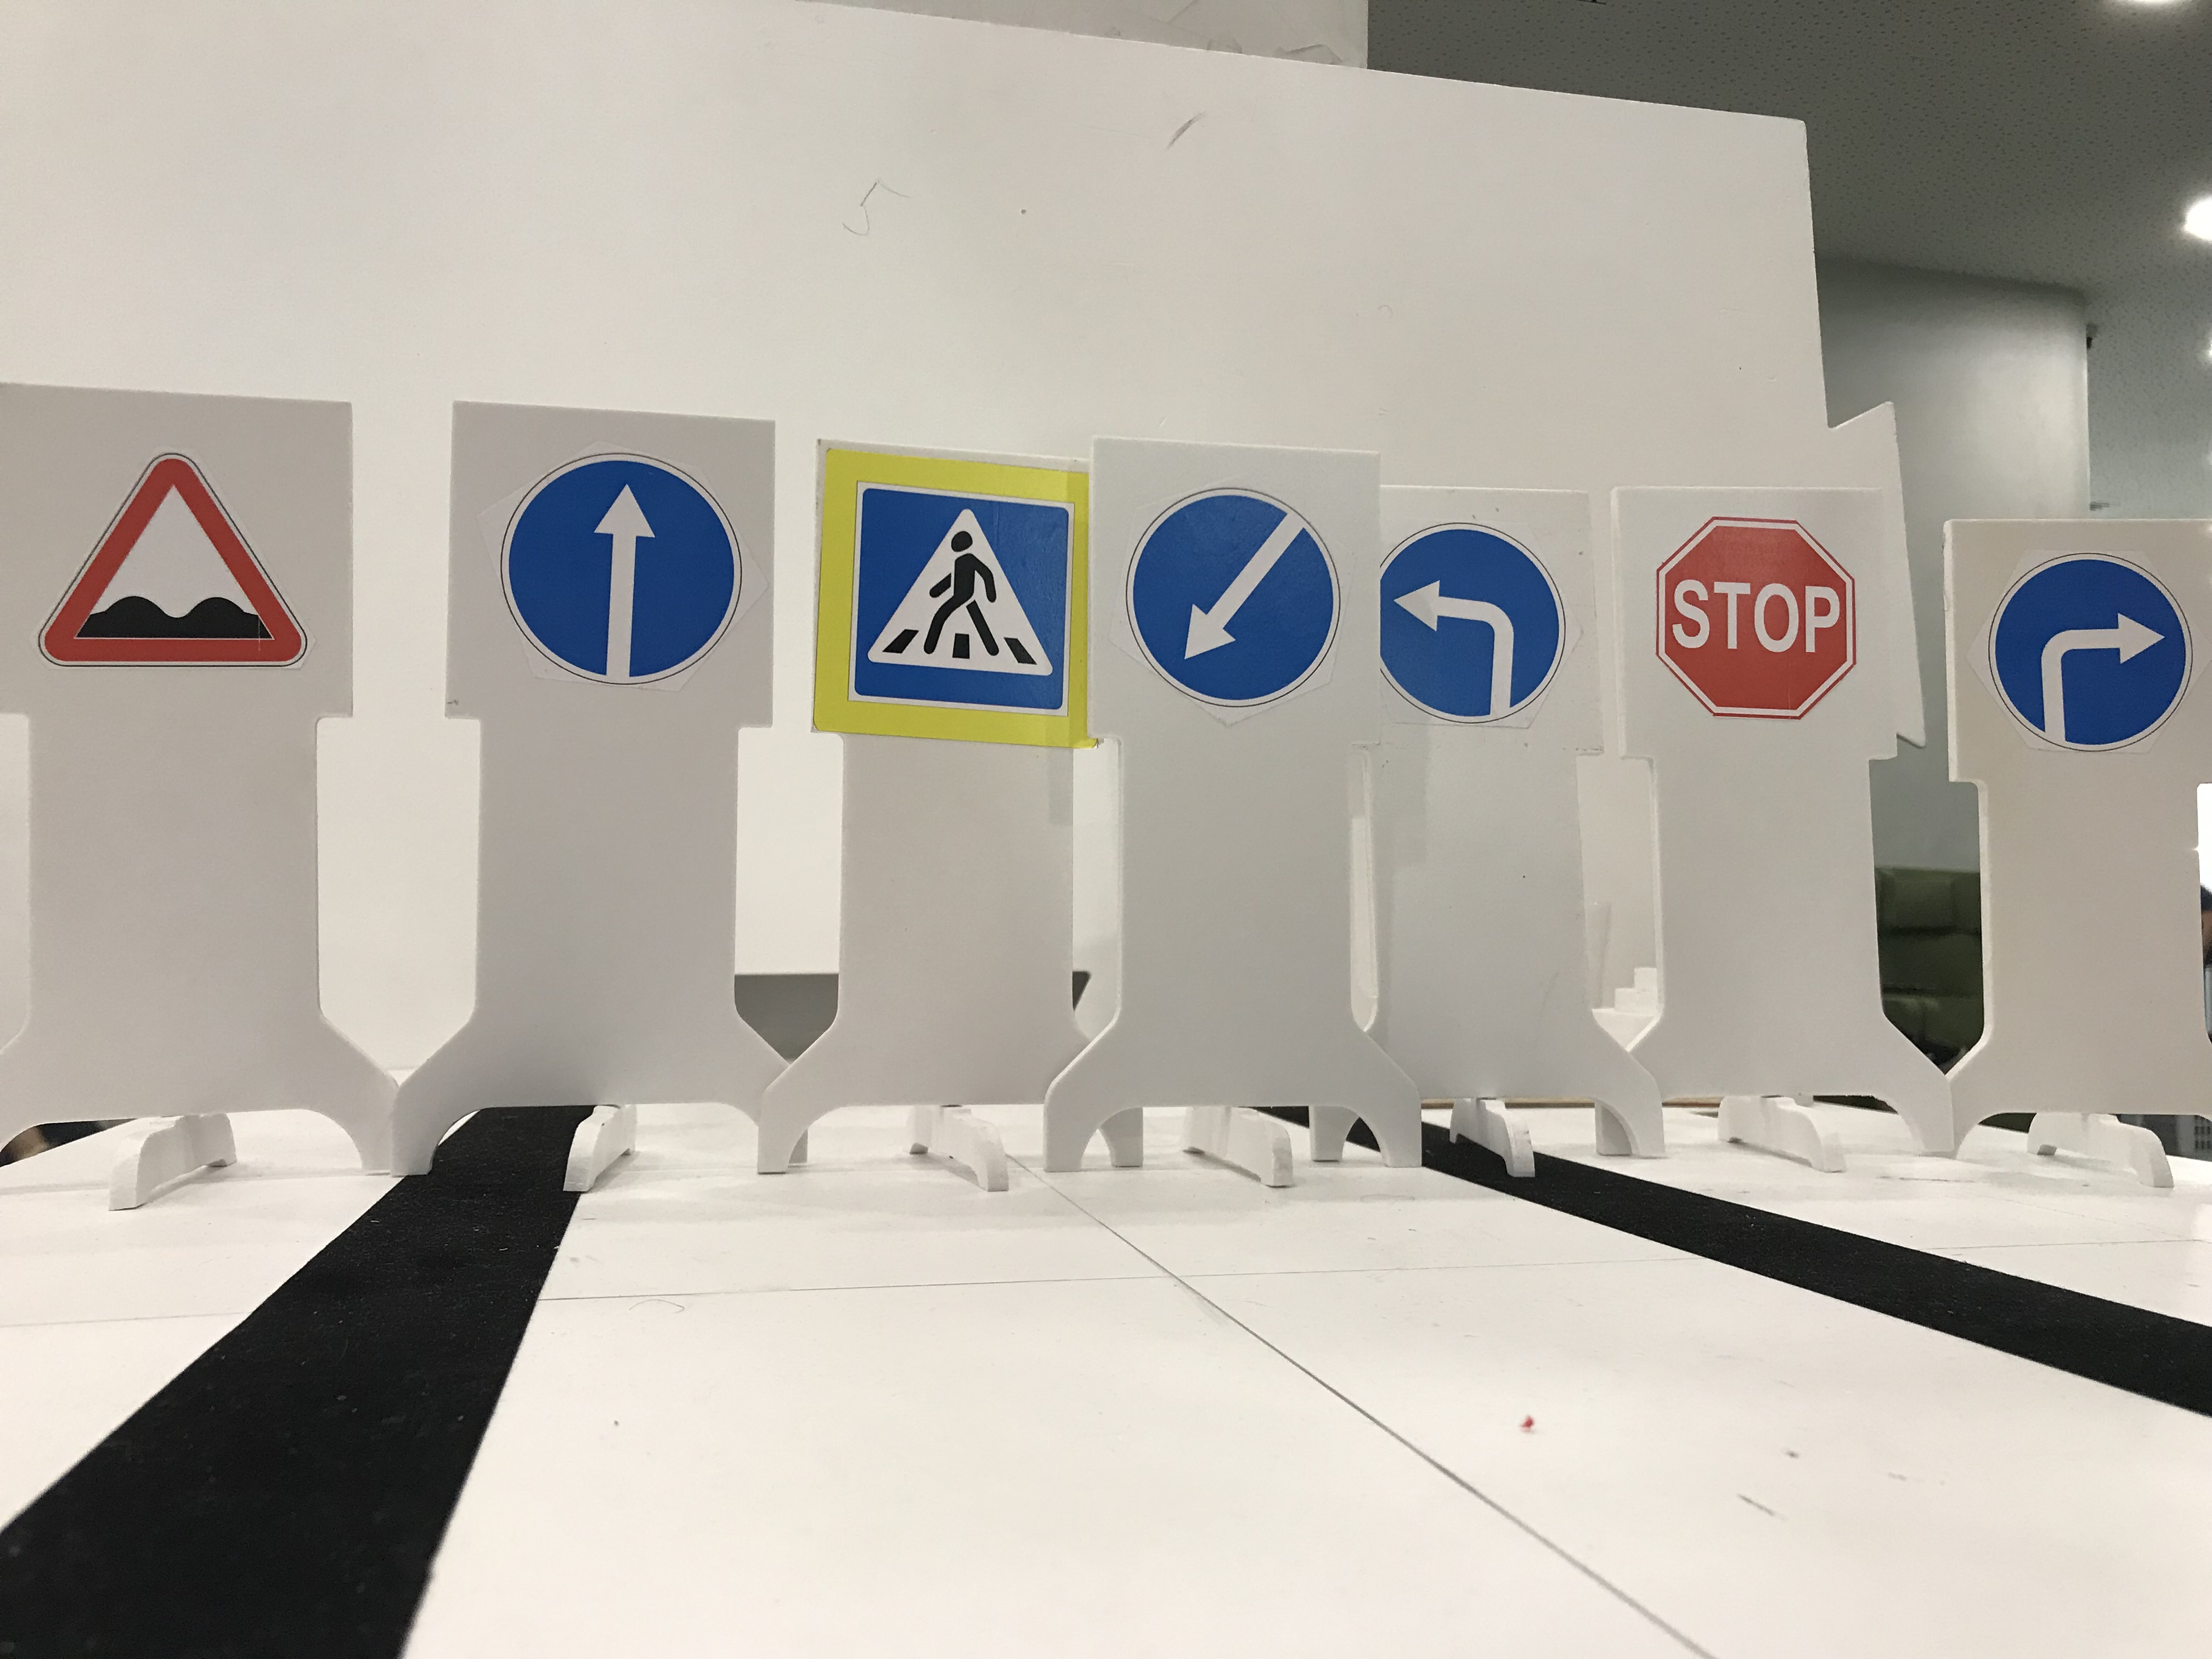Left: (1367, 509, 1575, 732)
Nerov: (37, 451, 314, 671)
Right: (1986, 551, 2195, 749)
Stop: (1644, 507, 1864, 730)
forw: (502, 451, 742, 687)
pesh: (815, 436, 1082, 749)
prep: (1115, 481, 1343, 711)
